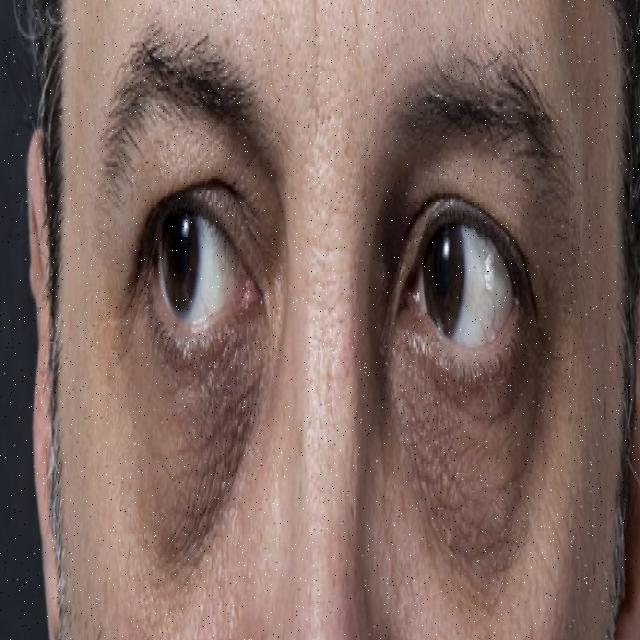puffy_eyes: (126, 297, 261, 556), (393, 362, 520, 580)
